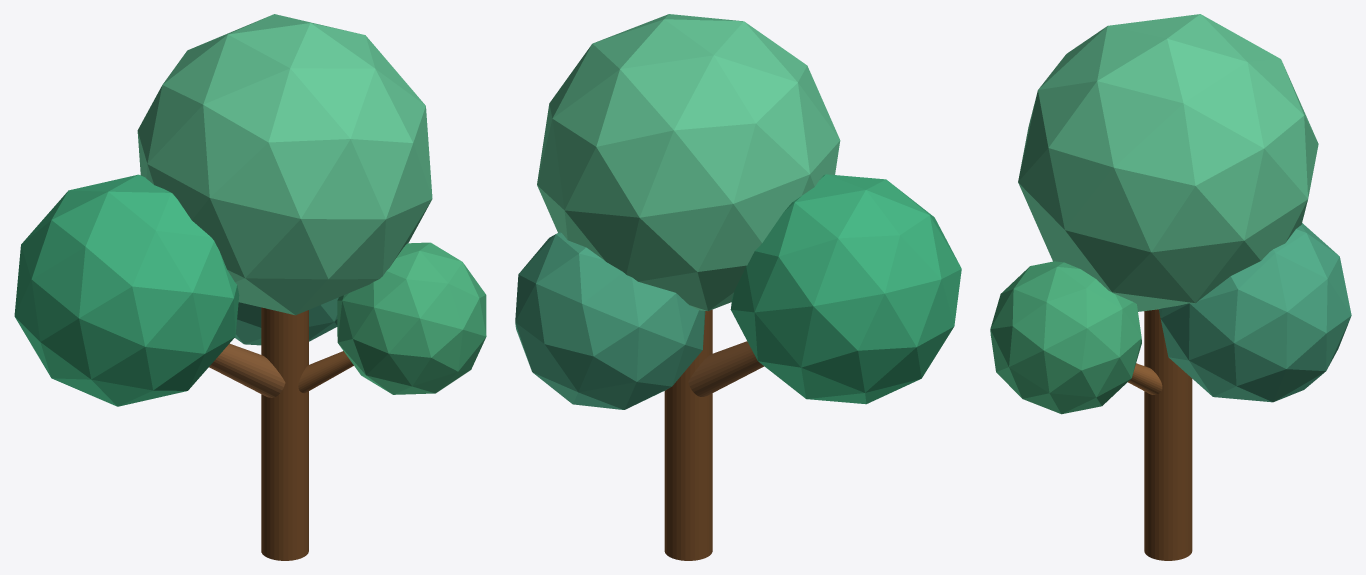
The model's file is 高橡树1.fbx.
3 renders of one model, left to right at view 1: azimuth 30°, elevation 25°; view 2: azimuth 150°, elevation 25°; view 3: azimuth 270°, elevation 25°, orthographic.
Parts seen in each view (by area): view 1: Icosphere, Icosphere.002, Icosphere.001, Cylinder, Cylinder.001, Icosphere.003, Cylinder.002; view 2: Icosphere, Icosphere.002, Icosphere.003, Cylinder, Cylinder.001; view 3: Icosphere, Icosphere.003, Icosphere.001, Cylinder, Cylinder.002.
Boxes of the visible parts, box(x1,y1,x2,y2) form: Icosphere: box(137, 14, 432, 315); Icosphere.002: box(14, 174, 239, 406); Icosphere.001: box(337, 242, 486, 394); Cylinder: box(261, 307, 308, 560); Cylinder.001: box(209, 343, 285, 397); Icosphere.003: box(235, 297, 338, 345); Cylinder.002: box(298, 351, 353, 393); Icosphere: box(537, 14, 840, 310); Icosphere.002: box(730, 174, 961, 404); Icosphere.003: box(515, 232, 705, 409); Cylinder: box(664, 309, 712, 560); Cylinder.001: box(688, 341, 764, 396); Icosphere: box(1018, 14, 1318, 311); Icosphere.003: box(1158, 223, 1351, 402); Icosphere.001: box(990, 261, 1141, 414); Cylinder: box(1144, 309, 1192, 560); Cylinder.002: box(1128, 363, 1162, 394).
Bounding box in the file's own units: 300 × 377 × 235.
